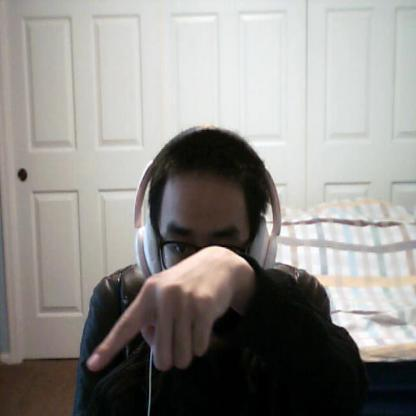finger_point: (83, 305, 150, 375)
